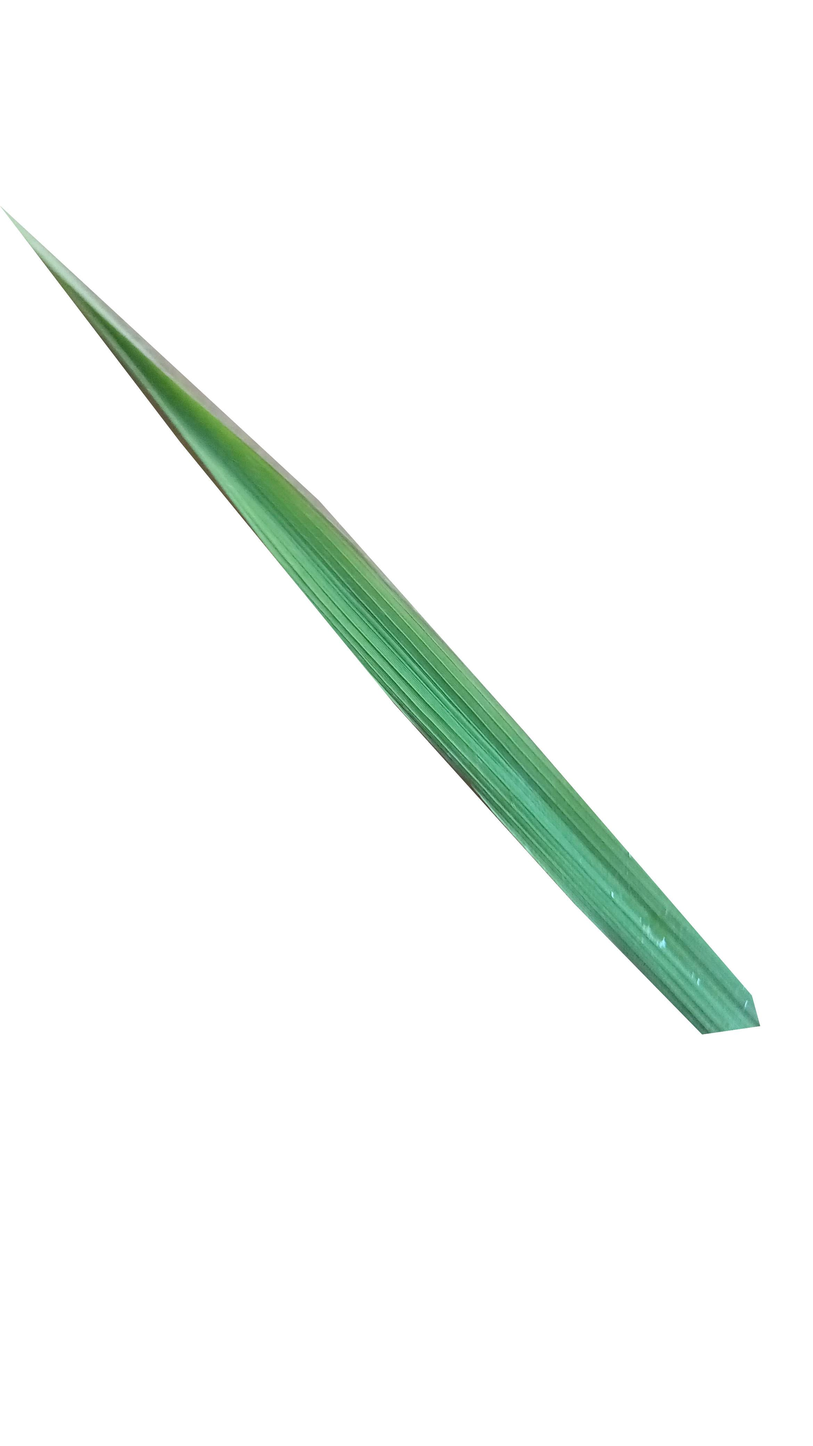Healthy: (0, 199, 764, 1043)
